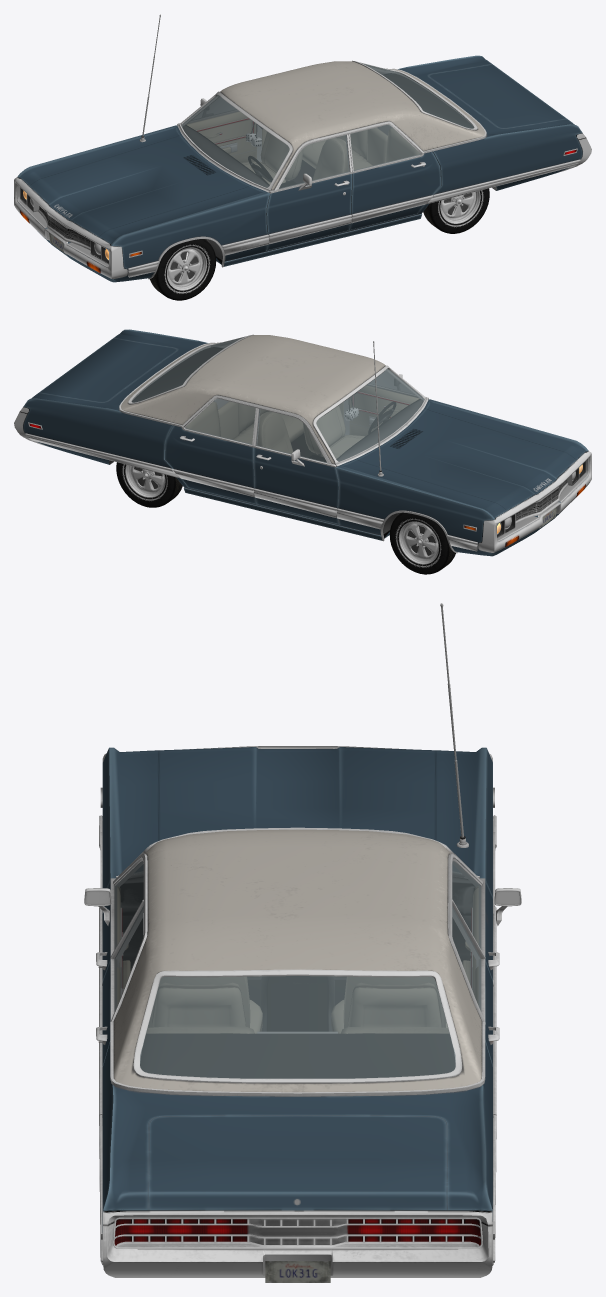
The picture shows the model from 3 angles, top to bottom: view 1: azimuth 30°, elevation 25°; view 2: azimuth 150°, elevation 25°; view 3: azimuth 270°, elevation 25°; orthographic projection. The views are drawn at different scales.
Visible parts, largest first — view 1: base, door3, door1, wheel1, wheel3; view 2: base, door4, door3, wheel2, wheel4; view 3: base, door3.
Boxes of the visible parts, <box> form: base: <box>14,14,591,282</box>; door3: <box>349,151,440,230</box>; door1: <box>266,174,351,250</box>; wheel1: <box>150,239,216,300</box>; wheel3: <box>423,188,489,233</box>; base: <box>14,329,591,556</box>; door4: <box>165,425,256,503</box>; door3: <box>254,447,339,524</box>; wheel2: <box>389,512,455,574</box>; wheel4: <box>116,462,182,507</box>; base: <box>84,603,521,1282</box>; door3: <box>102,881,492,1066</box>.
Size of the model in its own units: 1.25 by 0.5192 by 0.4819.
8 materials, 6 textured.
